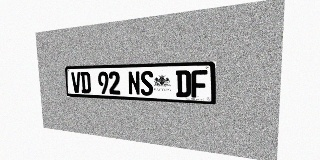2: (108, 71, 120, 95)
9: (98, 71, 109, 94)
D: (176, 70, 191, 97), (80, 72, 91, 93)
F: (191, 70, 207, 98)
N: (128, 71, 140, 95)
S: (140, 71, 153, 96)
V: (71, 72, 81, 93)
